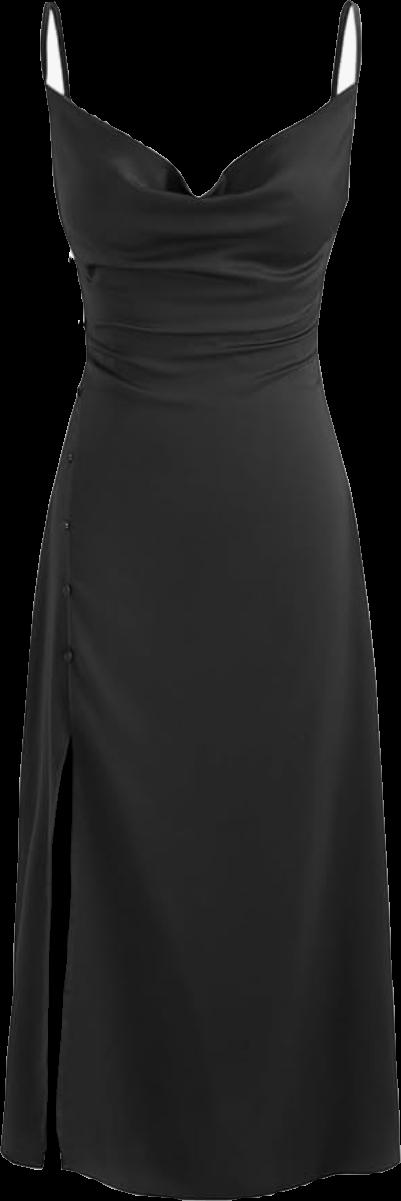Bodice: (40, 0, 361, 343)
Hemline: (0, 740, 400, 1200)
Neckline: (41, 0, 361, 212)
Skirt: (1, 342, 399, 1198)
